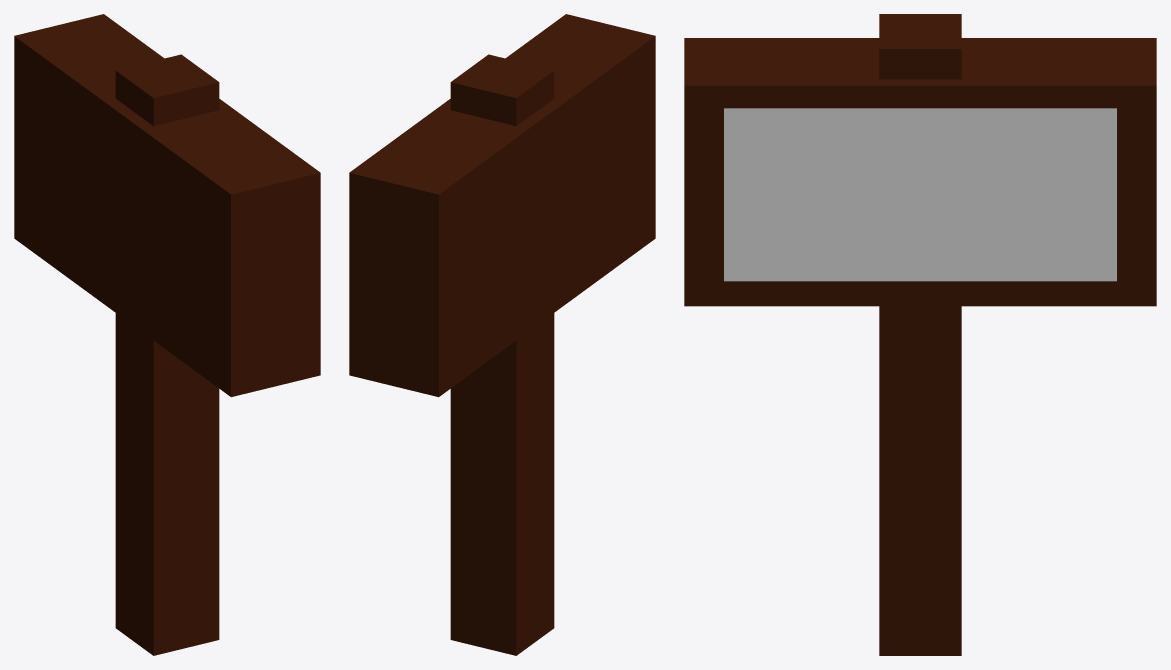
Rendered from Sign.fbx.
3 renders of one model, left to right at view 1: azimuth 30°, elevation 25°; view 2: azimuth 150°, elevation 25°; view 3: azimuth 270°, elevation 25°, orthographic. The views are drawn at different scales.
Parts seen in each view (by area): view 1: Sign; view 2: Sign; view 3: Sign, Paper.
Boxes of the visible parts, x1,y1,x2,y2 form: Sign: [14, 14, 320, 655]; Sign: [349, 14, 655, 655]; Sign: [684, 14, 1156, 655]; Paper: [724, 108, 1116, 281].
Size of the model in its own units: 132 by 760 by 536.
